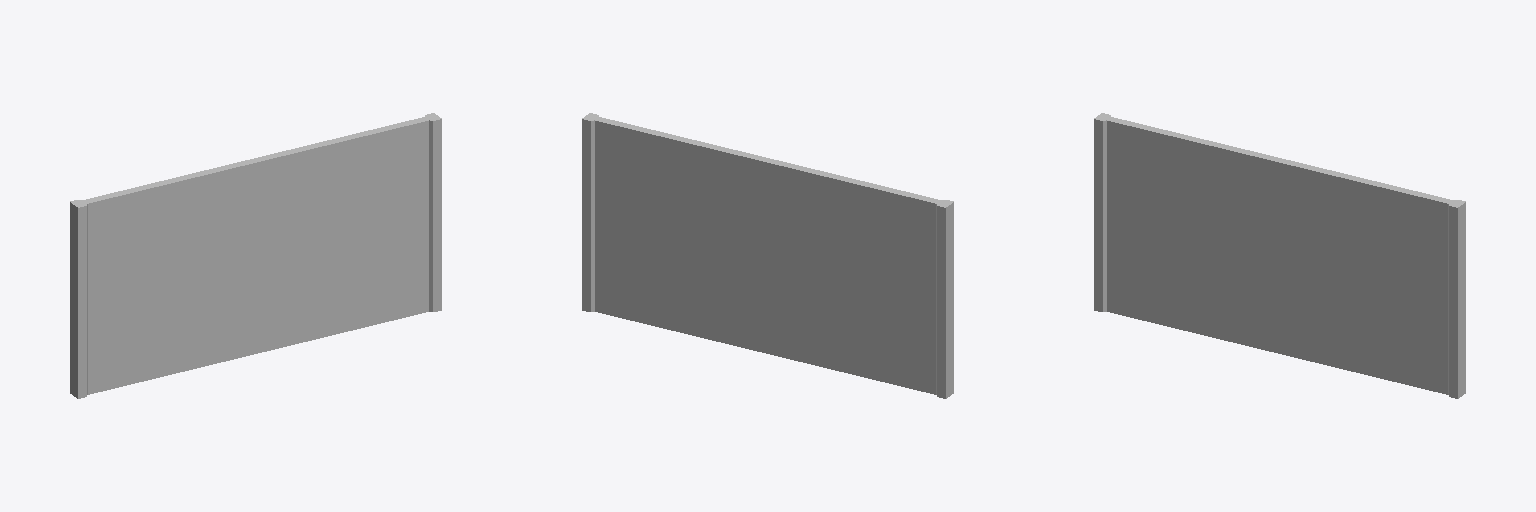
Rendered from wall.obj.
3 renders of one model, left to right at view 1: azimuth 30°, elevation 25°; view 2: azimuth 150°, elevation 25°; view 3: azimuth 330°, elevation 25°, orthographic.
Parts seen in each view (by area): view 1: Cube.003_Cube.016; view 2: Cube.003_Cube.016; view 3: Cube.003_Cube.016.
Boxes of the visible parts, x1,y1,x2,y2 form: Cube.003_Cube.016: [70, 113, 441, 398]; Cube.003_Cube.016: [582, 113, 953, 398]; Cube.003_Cube.016: [1094, 113, 1465, 398].
Size of the model in its own units: 34.75 by 17.44 by 1.39.